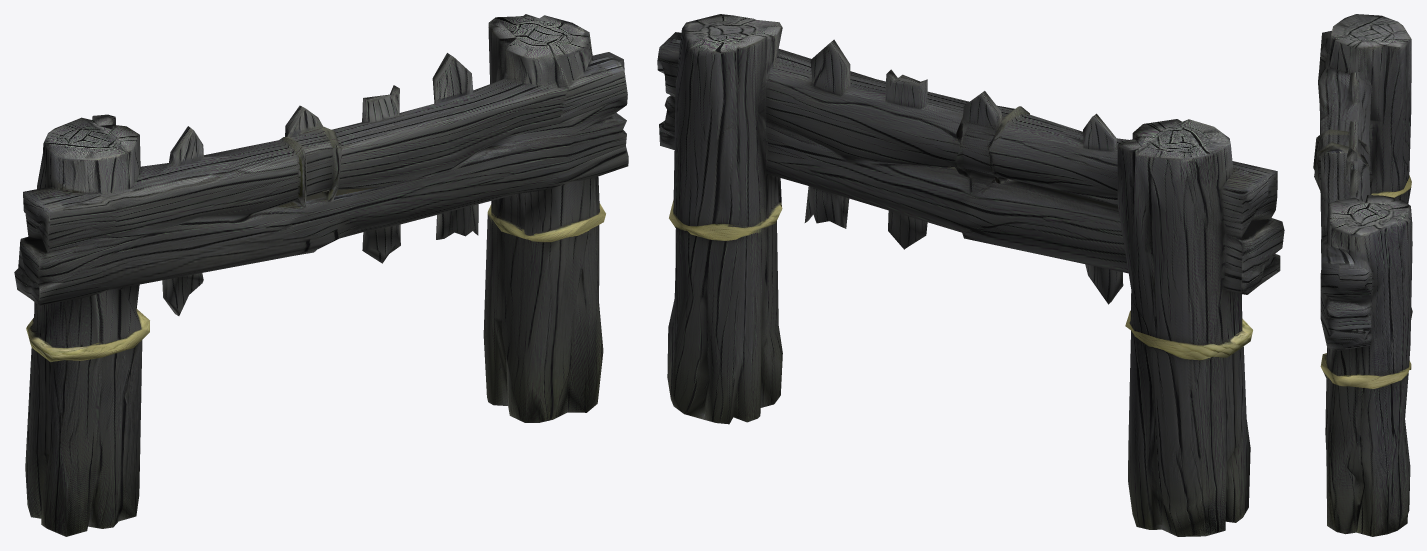
The model's file is prop-fence.glb.
3 views of the same model, side by side, from view 1: azimuth 30°, elevation 25°; view 2: azimuth 150°, elevation 25°; view 3: azimuth 270°, elevation 25° (orthographic). The views are drawn at different scales.
Bounding box in the file's own units: 2 × 1.2 × 0.35.
1 material, 1 textured.
